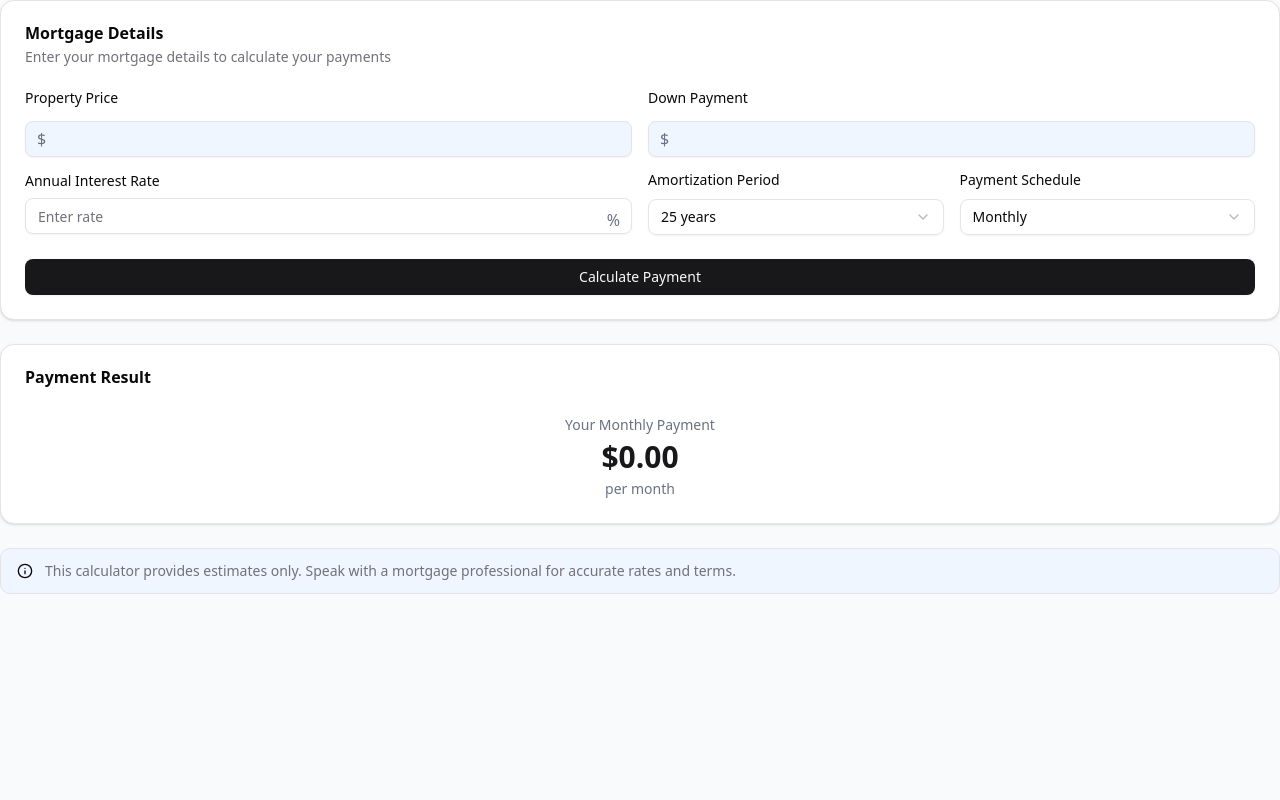
Scenario: MortgageCalculator › displays error when down payment exceeds property price
In the field labelled "Property Price": (328, 139) top-left (25, 121), bottom-right (632, 157), type "500000"
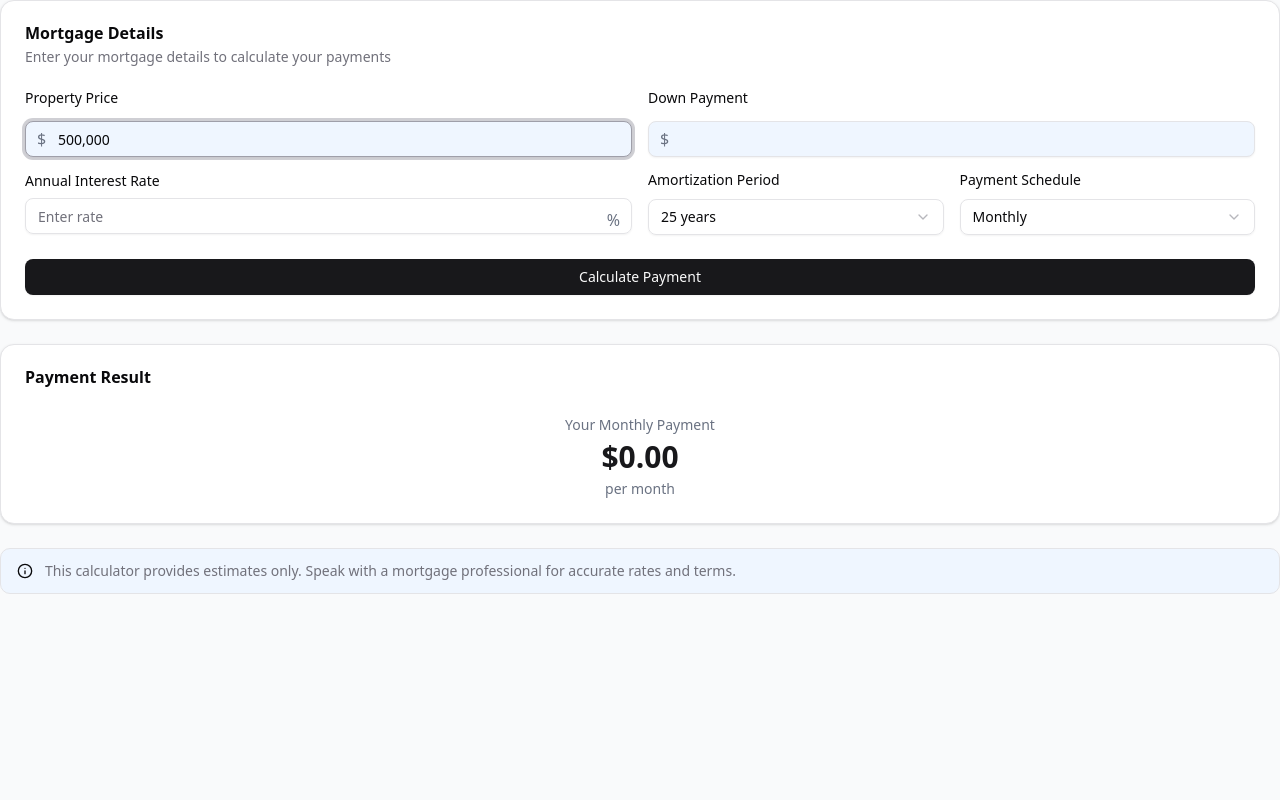
In the field labelled "Down Payment": (952, 139) top-left (648, 121), bottom-right (1255, 157), type "600000"
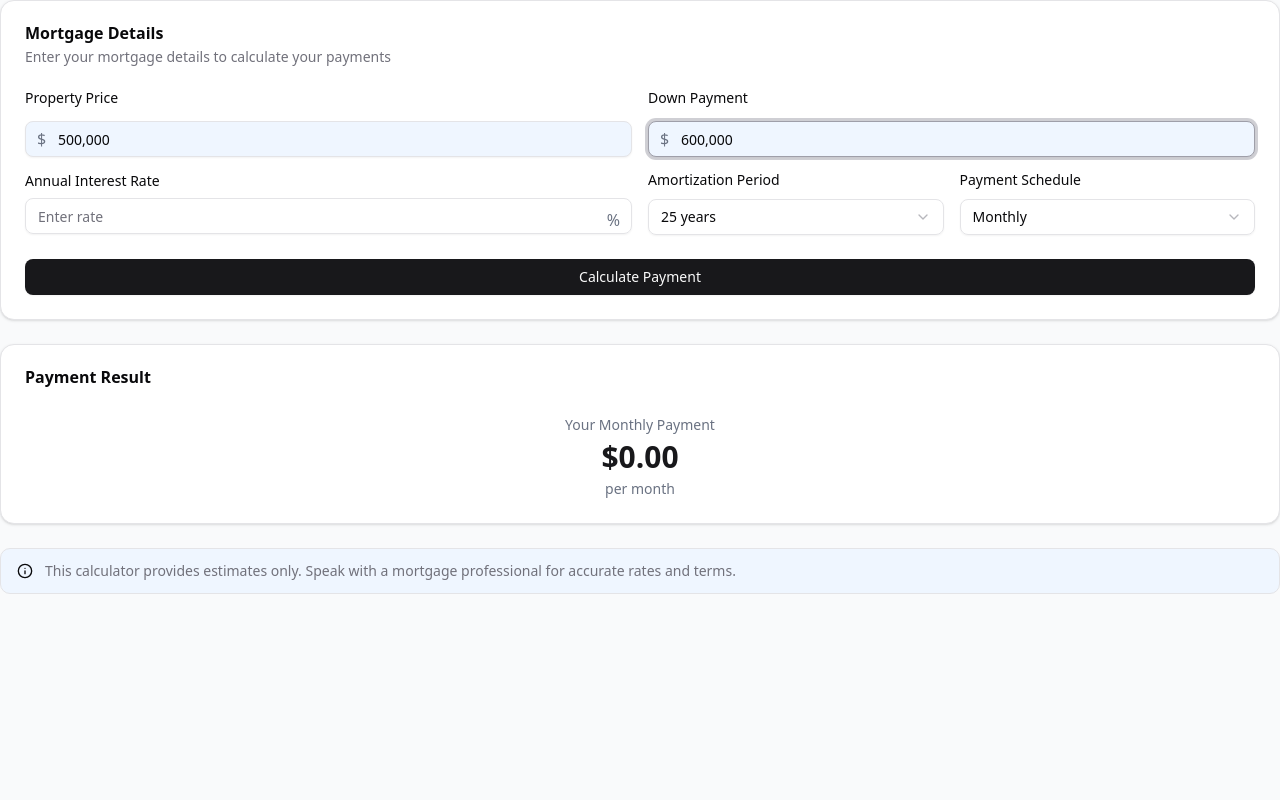
In the field labelled "Annual Interest Rate": (328, 216) top-left (25, 198), bottom-right (632, 234), type "5"
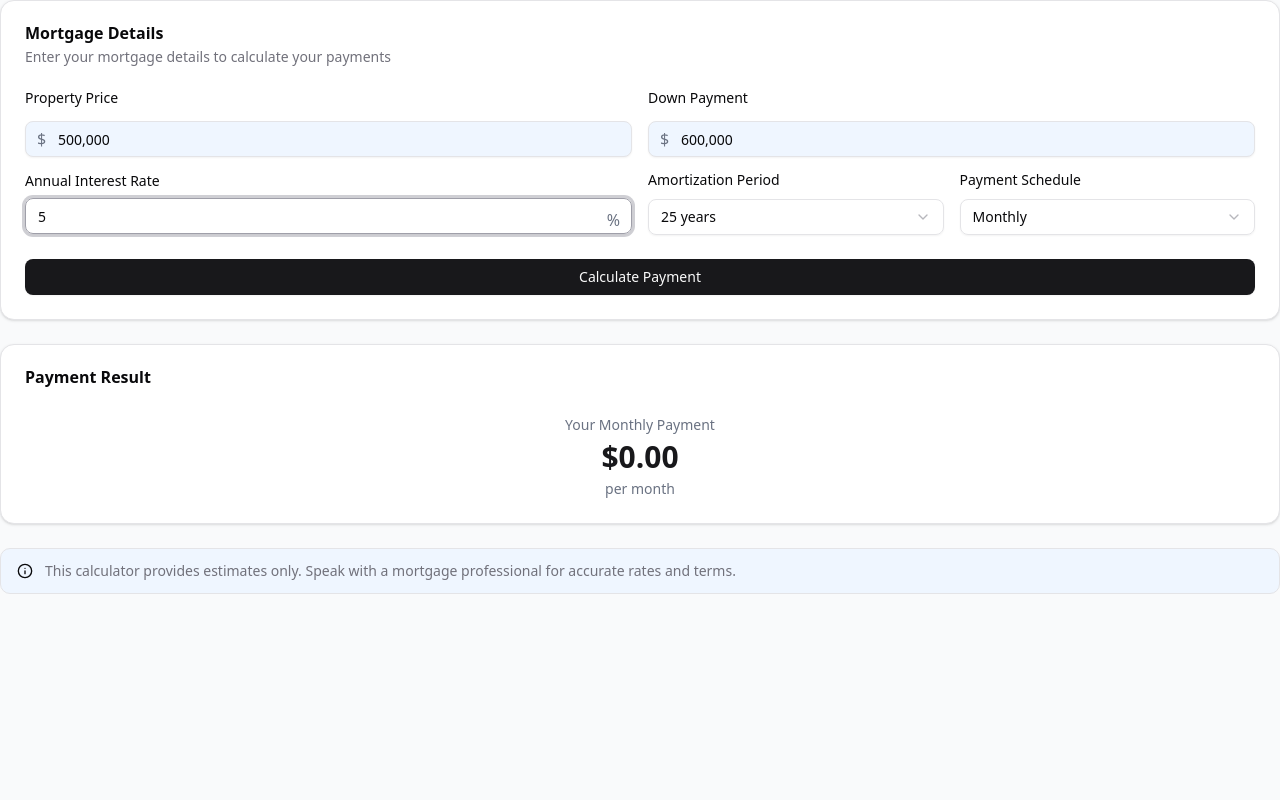
Click the button "Calculate Payment": (640, 277) top-left (25, 259), bottom-right (1255, 295)
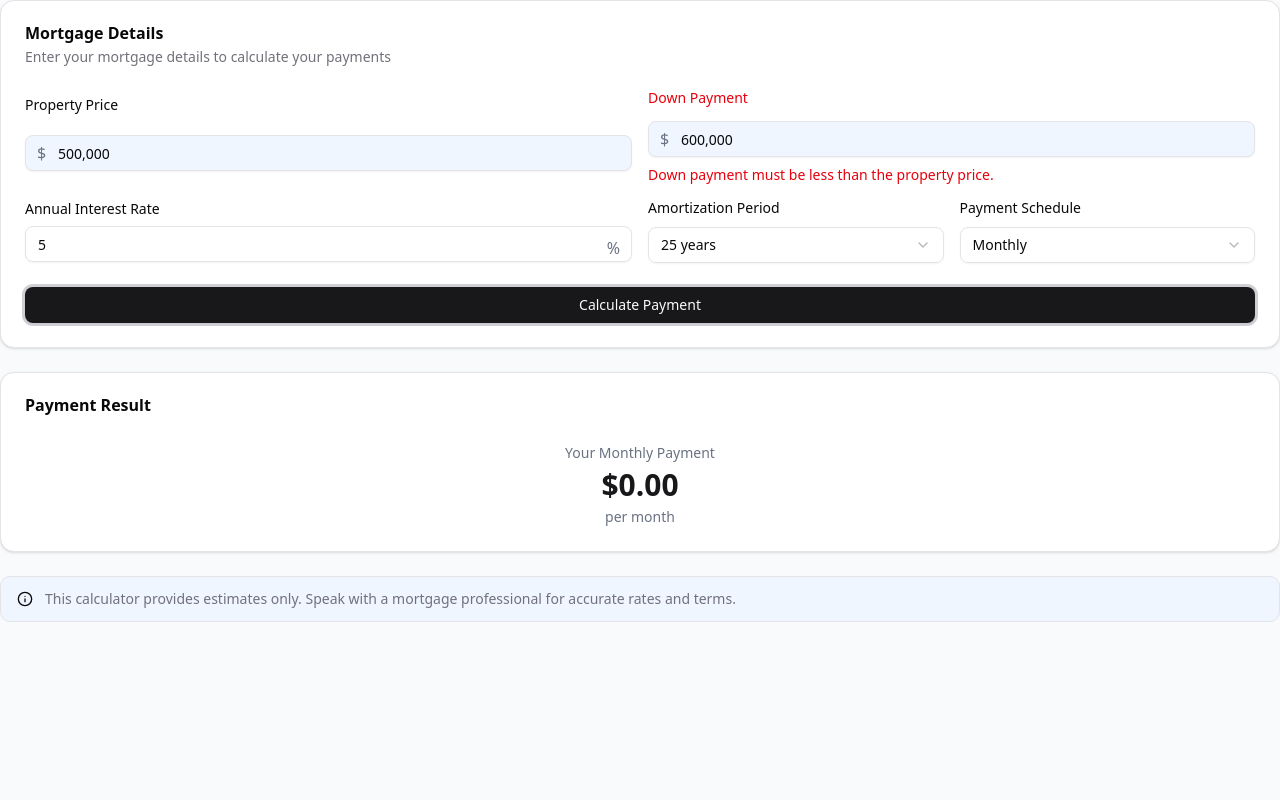
Result: the text "Down payment must be less than the property price." is shown at top-left (648, 165), bottom-right (994, 184)
